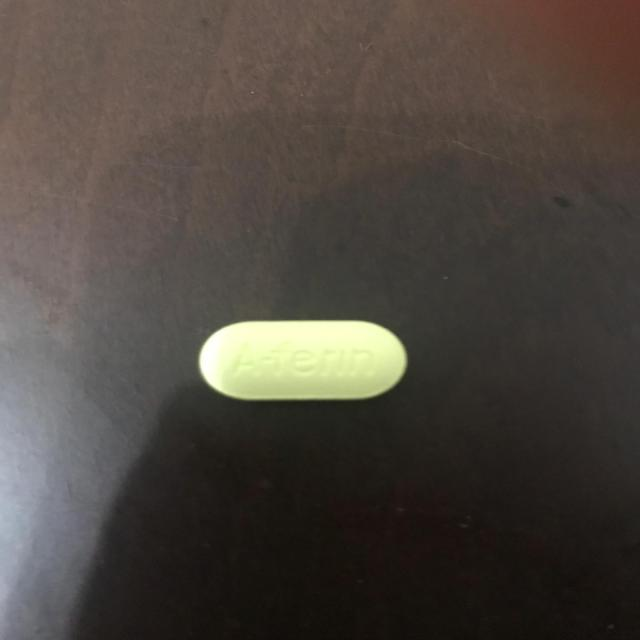pills: (172, 302, 424, 414)
